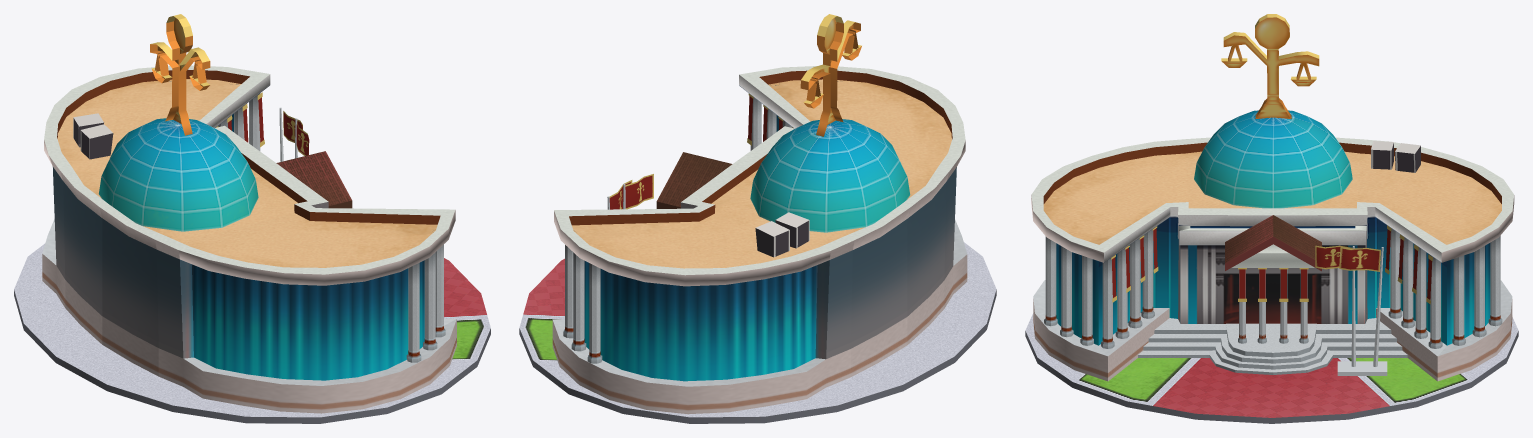
The model's file is BusinessCourt.fbx.
3 views of the same model, side by side, from view 1: azimuth 30°, elevation 25°; view 2: azimuth 150°, elevation 25°; view 3: azimuth 270°, elevation 25° (orthographic). The views are drawn at different scales.
Parts seen in each view (by area): view 1: building, base, middle; view 2: building, base, middle, left_flag; view 3: building, base, middle, right_flag, left_flag, pole_right.
Boxes of the visible parts, x1,y1,x2,y2 form: building: (42,65,456,413); base: (14,243,490,423); middle: (150,14,210,135); building: (552,66,967,414); base: (519,242,996,423); middle: (800,14,860,136); left_flag: (625,174,653,209); building: (1031,110,1514,381); base: (1025,313,1518,423); middle: (1223,14,1319,119); right_flag: (1339,247,1380,271); left_flag: (1315,245,1352,269); pole_right: (1373,247,1383,366).
Size of the model in its own units: 118 by 90.26 by 140.
